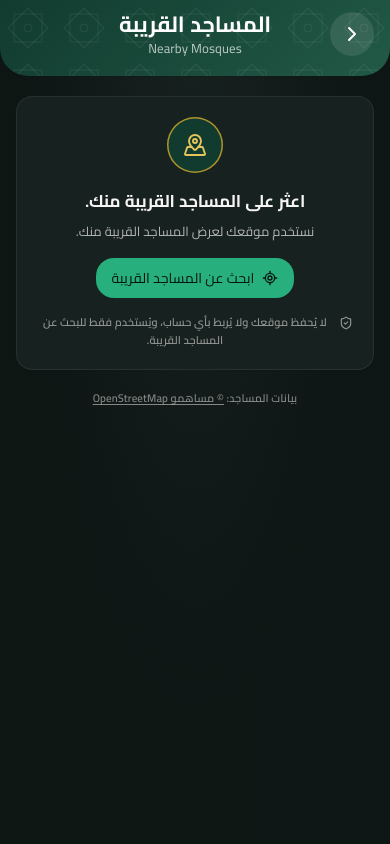
Test: Nearby Mosques — permission and location states › tap → requesting location → searching → results, nearest first
Later steps or results of the test are not shown.
Click the button with test id "mosques-start" at [195, 278], box [96, 258, 294, 298]
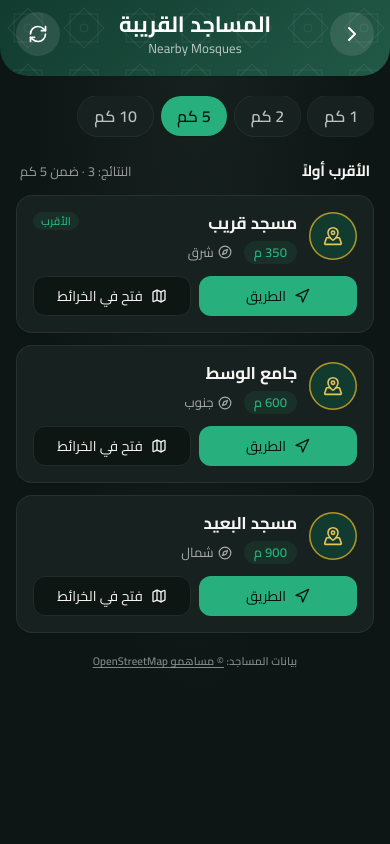
Check: the text with test id "mosques-count" shows "3", box [88, 159, 95, 183]
Check: the text "الأقرب" is shown, box [33, 212, 79, 230]
Check: the number of links "الطريق" is 3, box [199, 276, 357, 316]; [199, 426, 357, 466]; [199, 576, 357, 616]
